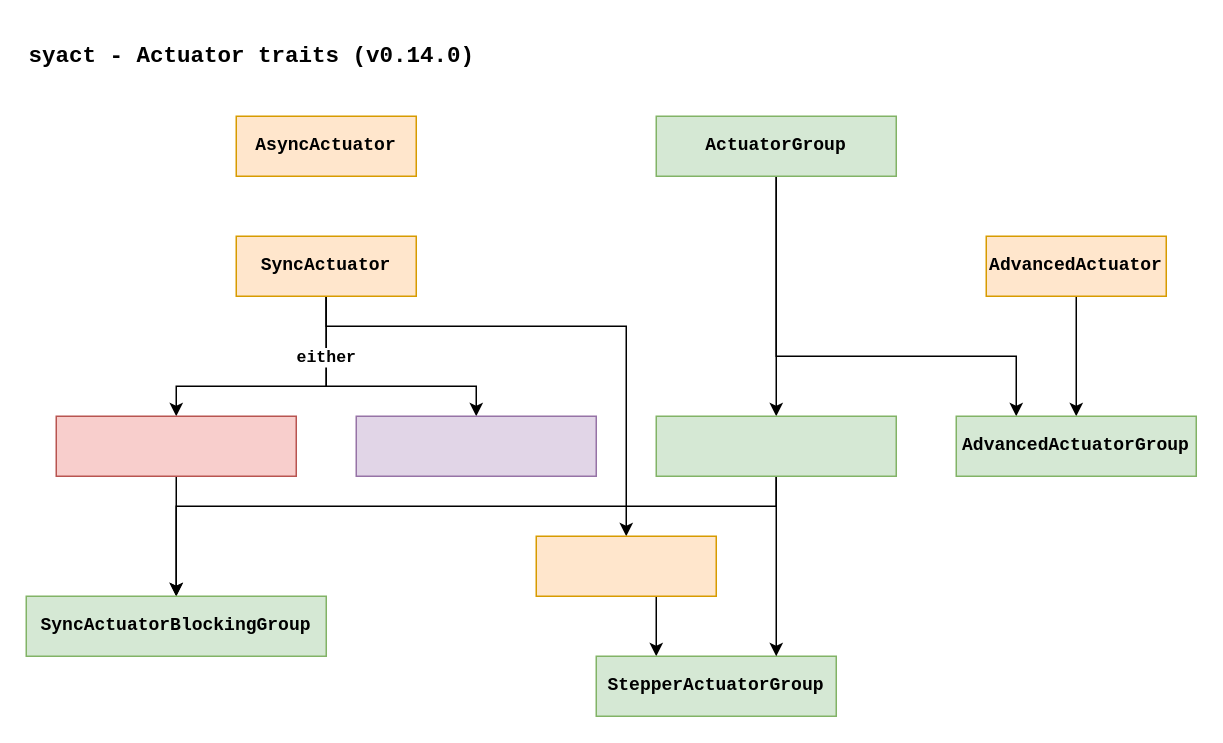
Image size: 1223x743. Some labels were removed from this diagram. Here are the shapes that lost their labels. From the top down, the centre of each, then its label:
At point 175,445: "SyncActuatorBlocking".
At point 475,445: "SyncActuatorNB".
At point 775,445: "SyncActuatorGroup".
At point 625,565: "StepperActuator".
